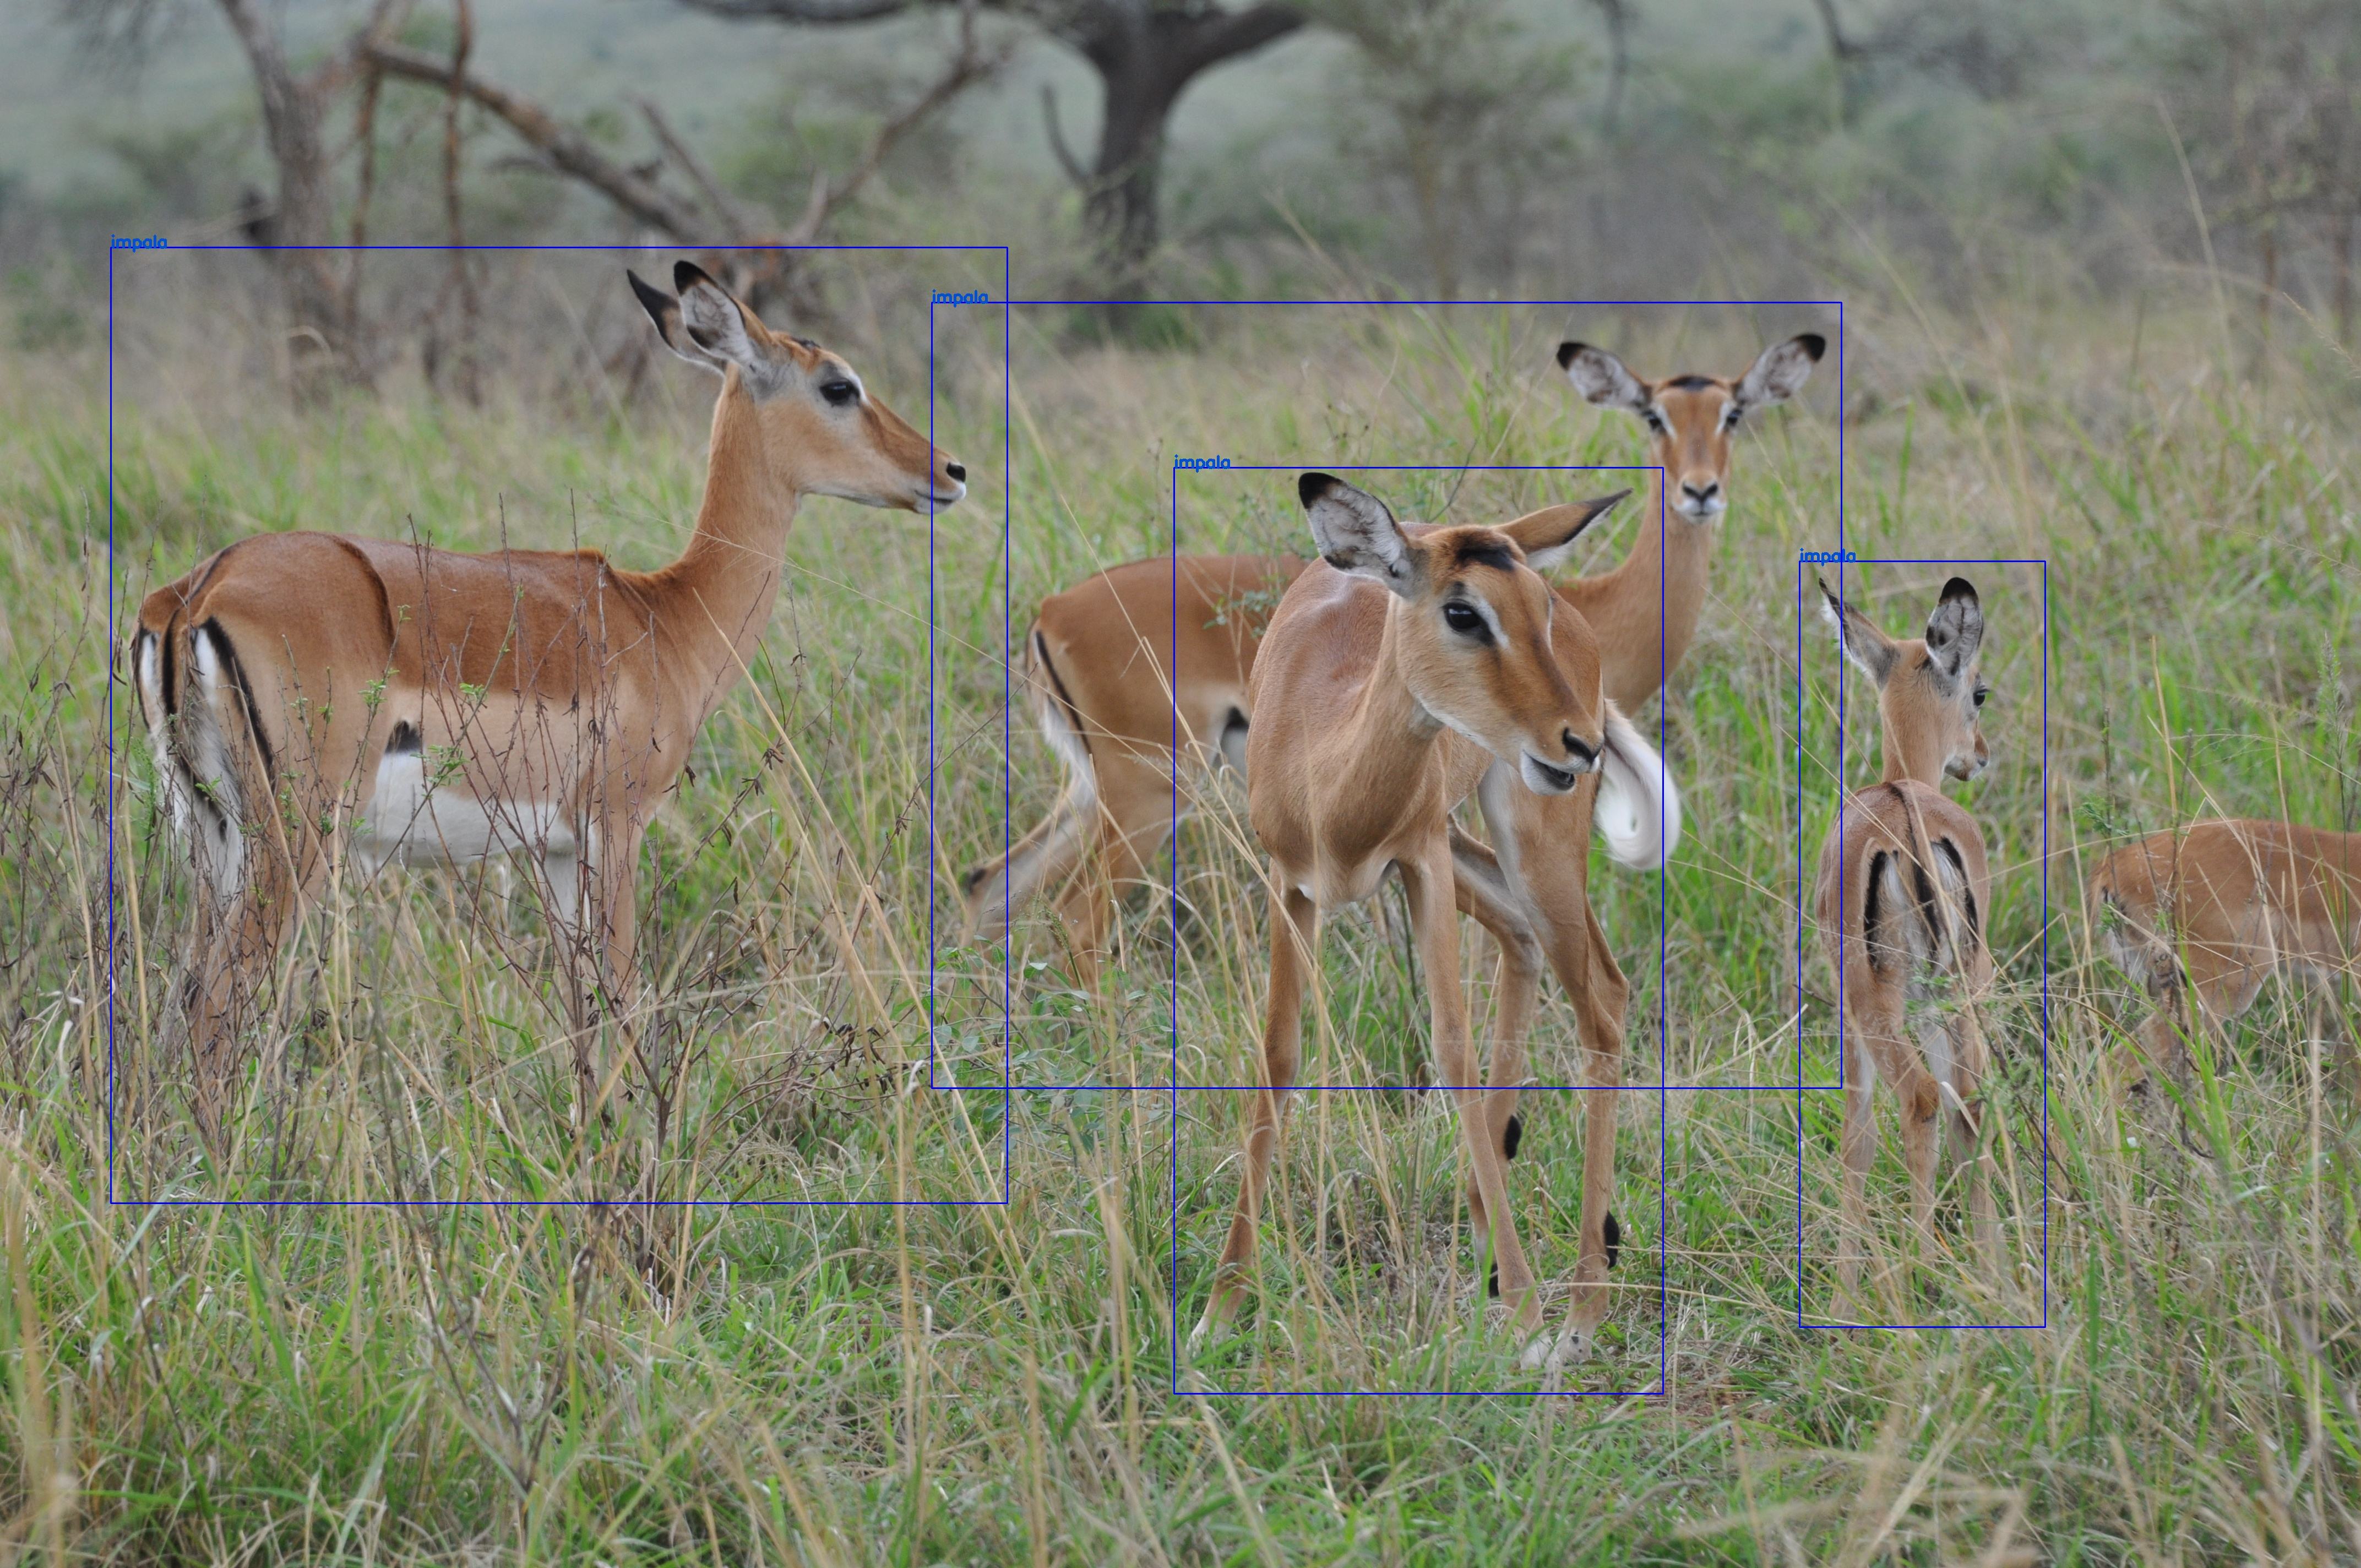impala: (110, 247, 1006, 1202), (931, 303, 1841, 1088), (1173, 467, 1663, 1393), (1799, 560, 2044, 1326)
